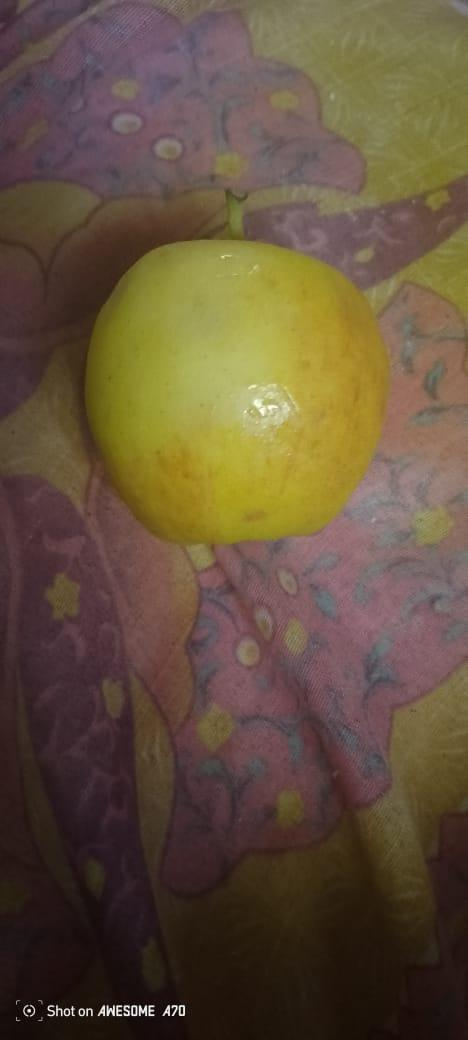non-mango: (82, 238, 392, 544)
